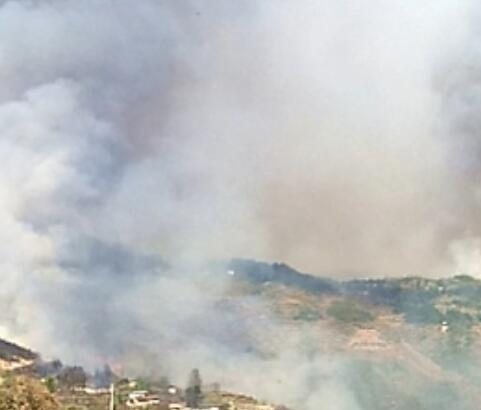smoke: (2, 1, 480, 408)
